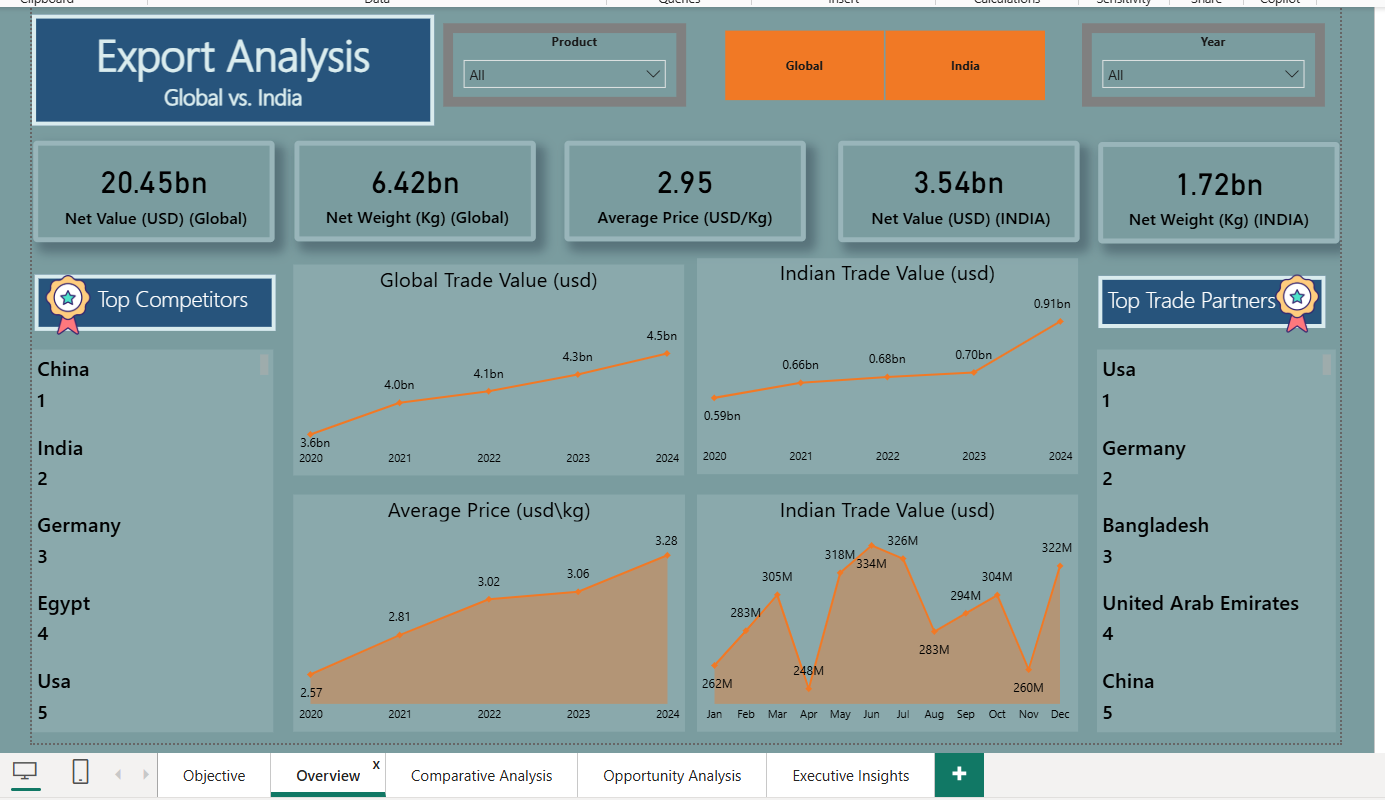

What the dashboard file says about the page in this screenshot:
{"tool":"powerbi","page":{"name":"Overview","canvas":[1280,720],"ordinal":1},"visuals":[{"type":"textbox","box":[0,7.3,393.8,108.8],"z":0},{"type":"textbox","box":[1043,262.4,222.6,51.4],"z":0,"group":"g2"},{"type":"textbox","box":[2.4,261.7,236,55],"z":1000,"group":"g1"},{"type":"multiRowCard","title":"Top 5 Global Competitors","fields":{"Values":["Trade_Master_PowerBI.partner_country","dax_measures.Rank(partner_country)"]},"box":[1041.9,335.1,233.6,374.2],"z":1000},{"type":"multiRowCard","title":"Top 5 Global Competitors","fields":{"Values":["dax_measures.Rank Country","Trade_Master_PowerBI.reporter_country"]},"box":[0,335.1,236,374.2],"z":2000},{"type":"slicer","title":"Product","fields":{"Values":["Trade_Master_PowerBI.product_name"]},"box":[402.3,15.9,237.2,81.9],"z":3000},{"type":"slicer","title":"Origin","fields":{"Values":["Trade_Master_PowerBI.origin"]},"box":[651.8,15.9,363.2,81.9],"z":4000},{"type":"slicer","title":"Year","fields":{"Values":["calendar.Year"]},"box":[1027.2,15.9,237.2,81.9],"z":5000},{"type":"card","title":"Total Global Net Value (Usd)","fields":{"Values":["dax_measures.global_tradevalue(usd)"]},"box":[1.2,130.8,236,99],"z":6000},{"type":"card","title":"Total Global Net weight (kg)","fields":{"Values":["dax_measures.Global_net_weight(kg)"]},"box":[256.7,131.3,236,98.8],"z":7000},{"type":"card","title":"Average Price (Usd/kg)","fields":{"Values":["dax_measures.Avg_price"]},"box":[521.5,131.3,236,98.8],"z":8000},{"type":"card","title":"Total Indian Net Value (Usd)","fields":{"Values":["dax_measures.Indian_tradevalue(usd)"]},"box":[788.6,130.9,235.7,99.3],"z":9000},{"type":"card","title":"Total Indian Net weight (kg)","fields":{"Values":["dax_measures.Indian_net_weight(kg)"]},"box":[1043.1,132.1,236,99],"z":10000},{"type":"lineChart","title":"Indian Trade Value (usd)","fields":{"Category":["calendar.Year"],"Y":["dax_measures.Indian_tradevalue(usd)"]},"box":[650.6,245.8,372.7,210.9],"z":11000},{"type":"areaChart","title":"Indian Trade Value (usd)","fields":{"Category":["calendar.Month_Name"],"Y":["dax_measures.Indian_tradevalue(usd)"]},"box":[650.6,476.6,372.7,232],"z":12000},{"type":"areaChart","title":"Average Price (usd\\kg)","fields":{"Category":["calendar.Year"],"Y":["dax_measures.Avg_price"]},"box":[255.7,476.6,383.2,232],"z":13000},{"type":"group","id":"g1","title":"Group 1","box":[1.2,247,237.2,88],"z":14000},{"type":"group","id":"g2","title":"Group 2","box":[1043,243.3,227.5,94.2],"z":15000},{"type":"lineChart","title":"Global Trade Value (usd)","fields":{"Category":["calendar.Year"],"Y":["dax_measures.global_tradevalue(usd)","dax_measures.global_tradevalue(usd)"]},"box":[255.6,251.9,382.7,206.7],"z":16000},{"type":"image","box":[1.2,247,68.5,88],"z":19000,"group":"g1"},{"type":"image","box":[1203.9,243.3,66.7,94.2],"z":21000,"group":"g2"}]}

Visuals, with their boxes on the page's 1280x720 design canvas (x1, y1, x2, y2). These are canvas units, not pixel positions in the 1385x800 screenshot, which may show the page scaled, cropped or inside an application window:
textbox: crop(0, 7, 394, 116)
textbox: crop(1043, 262, 1266, 314)
textbox: crop(2, 262, 238, 317)
"Top 5 Global Competitors" multiRowCard: crop(1042, 335, 1276, 709)
"Top 5 Global Competitors" multiRowCard: crop(0, 335, 236, 709)
"Product" slicer: crop(402, 16, 640, 98)
"Origin" slicer: crop(652, 16, 1015, 98)
"Year" slicer: crop(1027, 16, 1264, 98)
"Total Global Net Value (Usd)" card: crop(1, 131, 237, 230)
"Total Global Net weight (kg)" card: crop(257, 131, 493, 230)
"Average Price (Usd/kg)" card: crop(522, 131, 758, 230)
"Total Indian Net Value (Usd)" card: crop(789, 131, 1024, 230)
"Total Indian Net weight (kg)" card: crop(1043, 132, 1279, 231)
"Indian Trade Value (usd)" lineChart: crop(651, 246, 1023, 457)
"Indian Trade Value (usd)" areaChart: crop(651, 477, 1023, 709)
"Average Price (usd\kg)" areaChart: crop(256, 477, 639, 709)
"Group 1" group: crop(1, 247, 238, 335)
"Group 2" group: crop(1043, 243, 1270, 338)
"Global Trade Value (usd)" lineChart: crop(256, 252, 638, 459)
image: crop(1, 247, 70, 335)
image: crop(1204, 243, 1271, 338)
